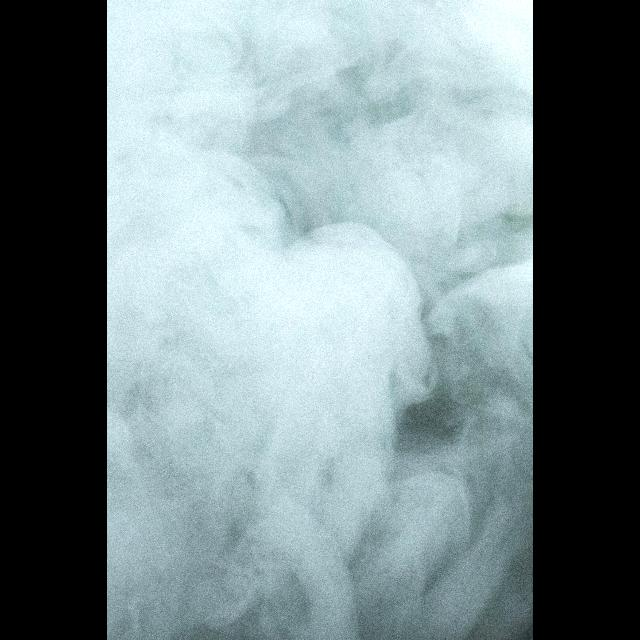smoke: (107, 0, 534, 640)
